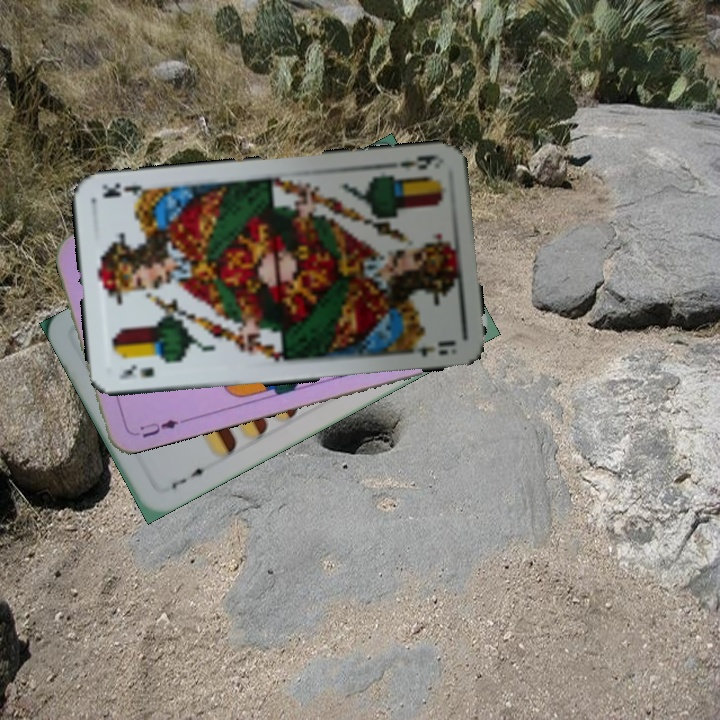E7: (167, 463, 213, 492)
EK: (114, 361, 157, 383), (396, 151, 438, 173)
EU: (127, 415, 181, 441)
